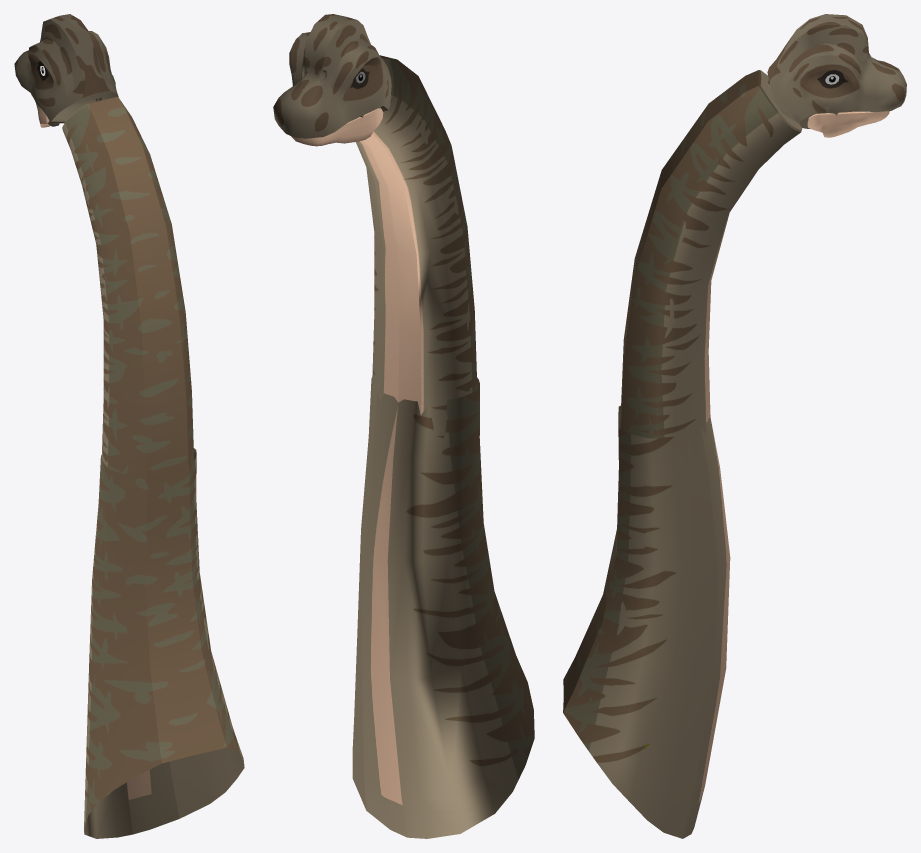
The model's file is Cuello.obj.
3 views of the same model, side by side, from view 1: azimuth 30°, elevation 25°; view 2: azimuth 150°, elevation 25°; view 3: azimuth 270°, elevation 25° (orthographic). The views are drawn at different scales.
Visible parts, largest first — view 1: Cuello1:polySurface64 group2; view 2: Cuello1:polySurface64 group2; view 3: Cuello1:polySurface64 group2.
Part boxes in pixels (bbox=[...]): Cuello1:polySurface64 group2: bbox=[14, 14, 244, 838]; Cuello1:polySurface64 group2: bbox=[273, 14, 534, 838]; Cuello1:polySurface64 group2: bbox=[563, 14, 906, 838].
Size of the model in its own units: 3.02 by 14.97 by 5.77.
Materials: 5 (5 with a texture image).
